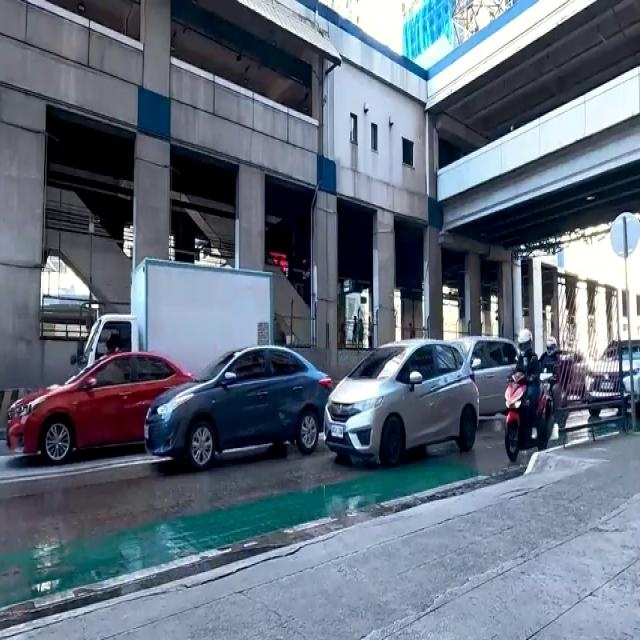car: (4, 349, 188, 471), (153, 351, 319, 468), (335, 341, 467, 484), (583, 343, 640, 421)
motorcycle: (501, 334, 546, 449), (544, 334, 564, 425)
truck: (81, 268, 270, 412)
